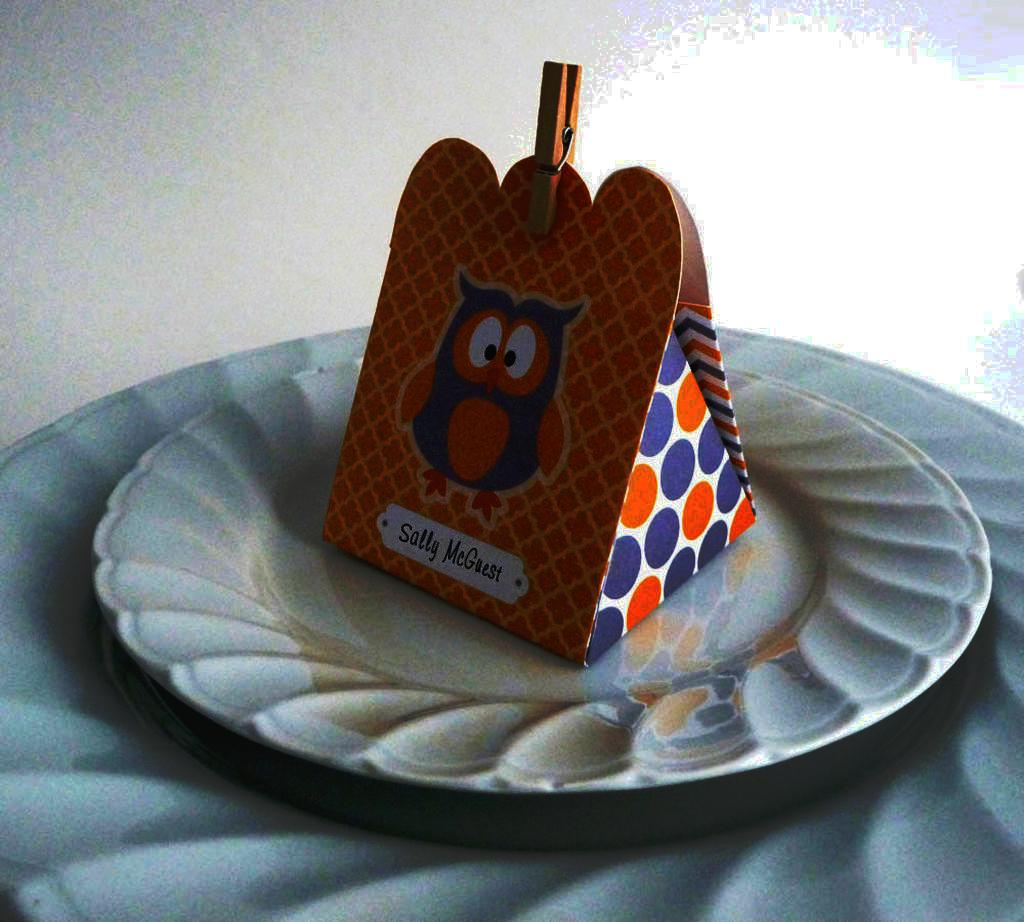Owl: (398, 260, 588, 526)
